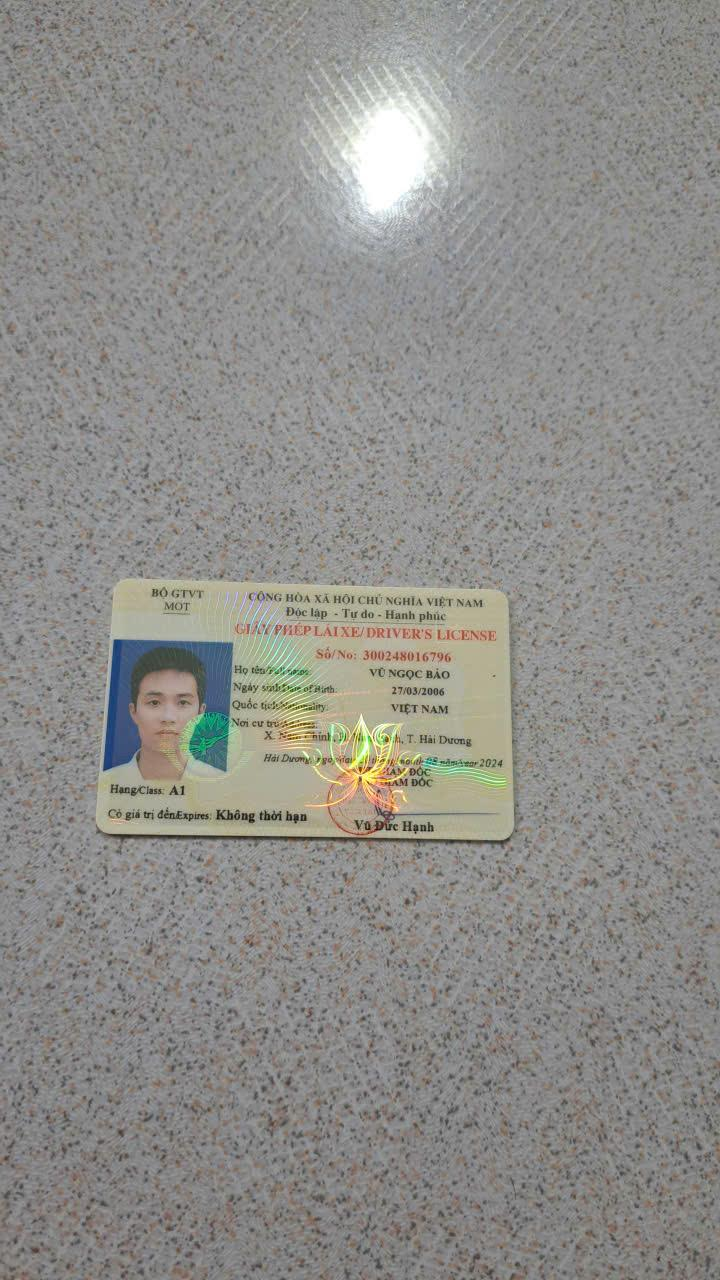gplx: (88, 575, 520, 848)
